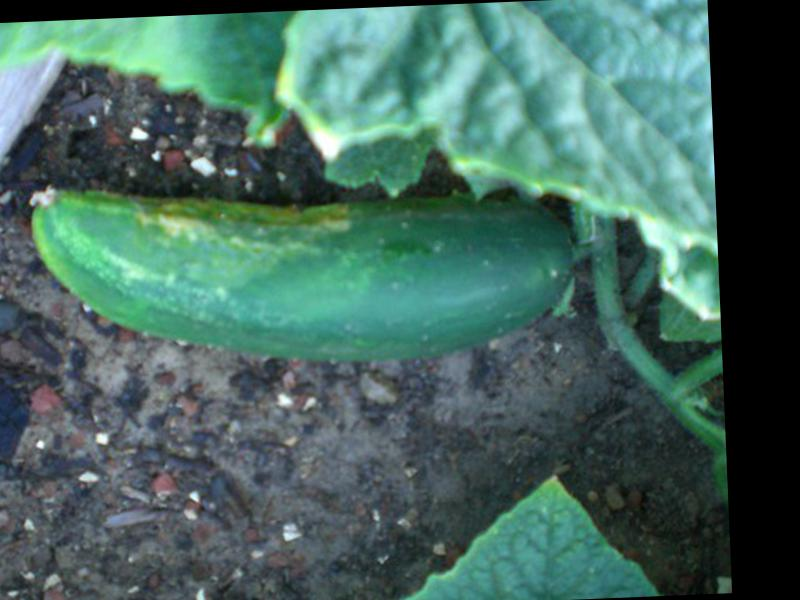Cucumber: (29, 165, 575, 373)
